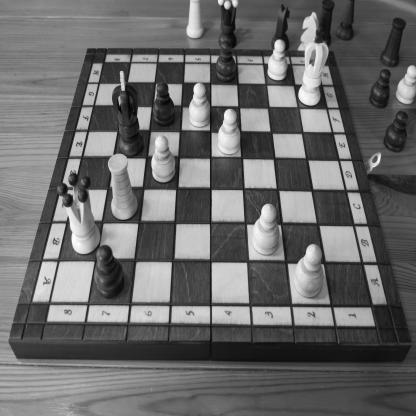black-bishop: (336, 0, 356, 39)
black-king: (111, 70, 144, 157)
black-knight: (271, 3, 291, 49)
black-pawn: (94, 244, 126, 299), (383, 110, 409, 154), (152, 81, 176, 127), (215, 40, 237, 83), (369, 68, 391, 110)
black-queen: (217, 0, 238, 49)
black-rook: (379, 17, 406, 68), (316, 0, 336, 46)
white-king: (298, 26, 329, 107)
white-knight: (298, 11, 320, 51)
white-pawn: (294, 243, 324, 299), (252, 203, 280, 257), (151, 135, 176, 185), (217, 107, 241, 156), (188, 82, 211, 128), (267, 39, 288, 82), (395, 64, 415, 107)
white-queen: (57, 172, 101, 255)
white-rook: (108, 153, 138, 222), (185, 0, 205, 40)
